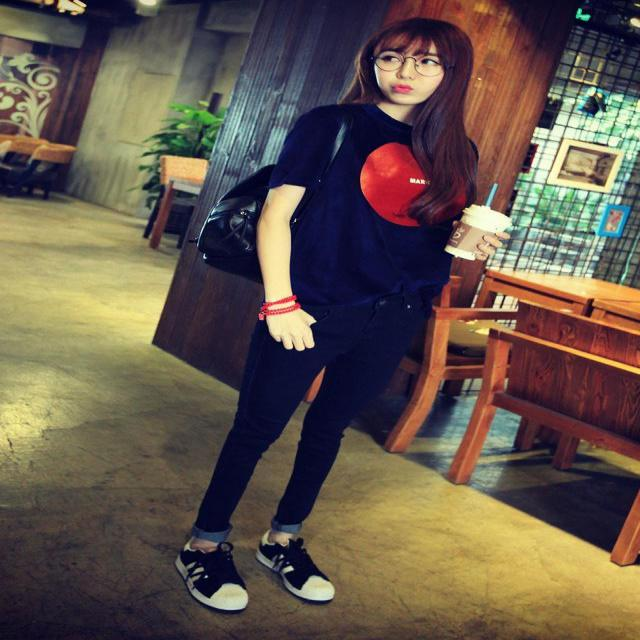short sleeve top: (263, 106, 477, 303)
trousers: (192, 290, 433, 541)
